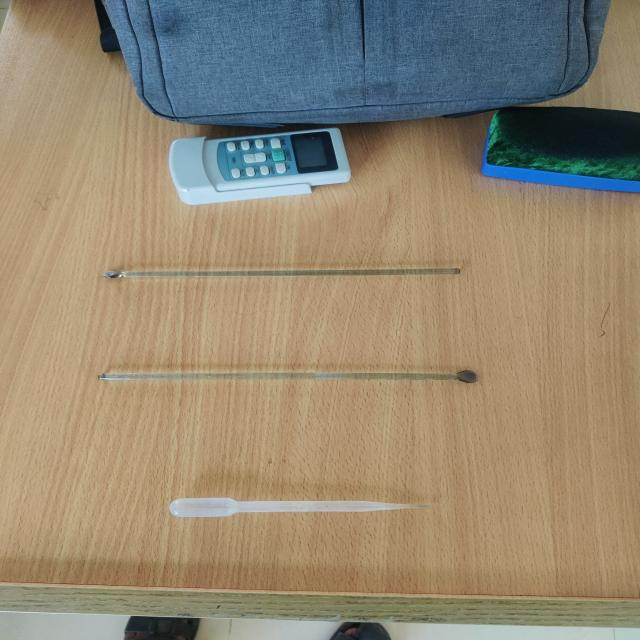Glass_Rod: (67, 340, 519, 416), (84, 242, 500, 304)
Pipette: (152, 471, 430, 559)
